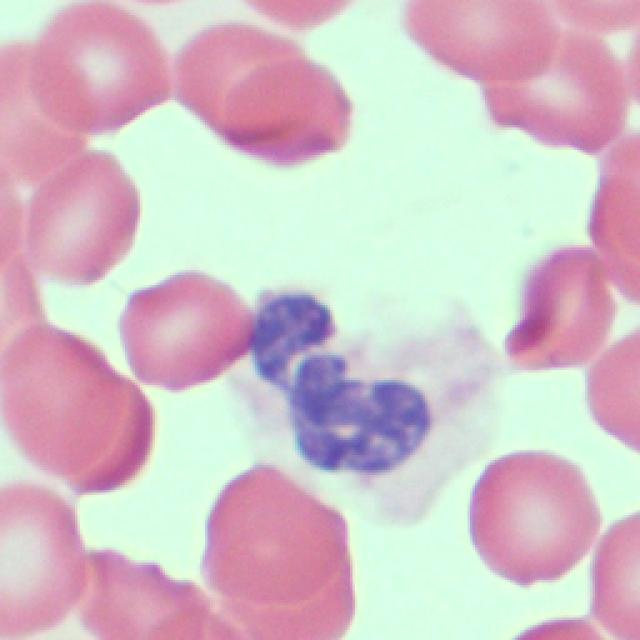RBC: (200, 460, 346, 605), (0, 323, 124, 475), (482, 30, 629, 156), (36, 2, 174, 134), (18, 148, 144, 284), (472, 452, 600, 584), (174, 21, 317, 137), (118, 267, 253, 389), (404, 0, 560, 88), (0, 480, 89, 633), (226, 61, 353, 160), (0, 44, 89, 181), (205, 561, 357, 640), (57, 370, 152, 495), (504, 244, 592, 370), (96, 544, 201, 640), (588, 126, 640, 312), (558, 0, 638, 111), (589, 508, 640, 632), (590, 326, 638, 455)
WBC: (228, 272, 495, 532)
